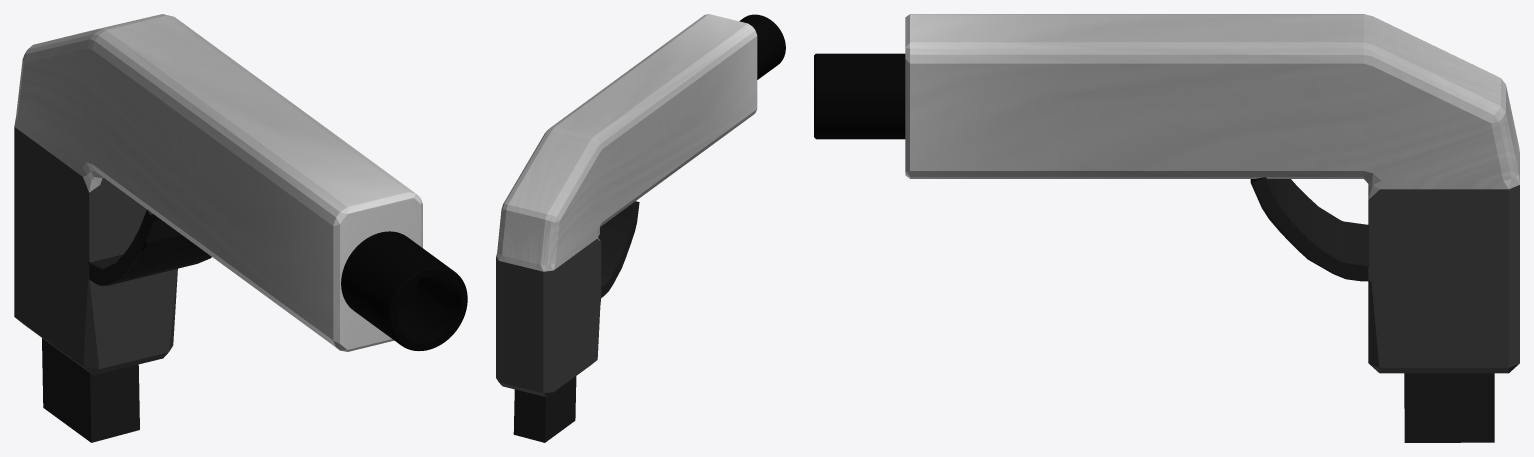
Rendered from gun1new.glb.
The picture shows the model from 3 angles, left to right: view 1: azimuth 30°, elevation 25°; view 2: azimuth 150°, elevation 25°; view 3: azimuth 270°, elevation 25°; orthographic projection. The views are drawn at different scales.
Visible parts, largest first — view 1: Cylinder, Cube; view 2: Cylinder, Cube; view 3: Cylinder, Cube.
Part boxes in pixels (left/top/right/bottom): Cylinder: left=14, top=14, right=467, bottom=375; Cube: left=42, top=338, right=139, bottom=442; Cylinder: left=496, top=14, right=785, bottom=396; Cube: left=513, top=376, right=576, bottom=442; Cylinder: left=814, top=14, right=1519, bottom=373; Cube: left=1404, top=373, right=1494, bottom=442.
Size of the model in its own units: 0.0644 by 0.2946 by 0.4663.
3 materials, 2 textured.
